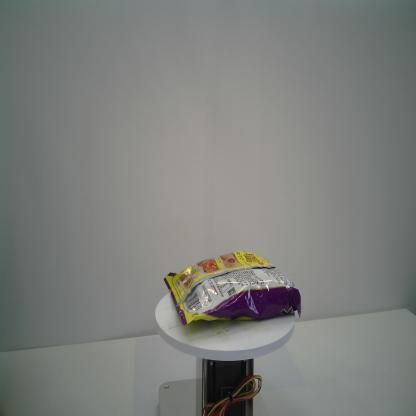Instant Noodles: (162, 249, 302, 326)
